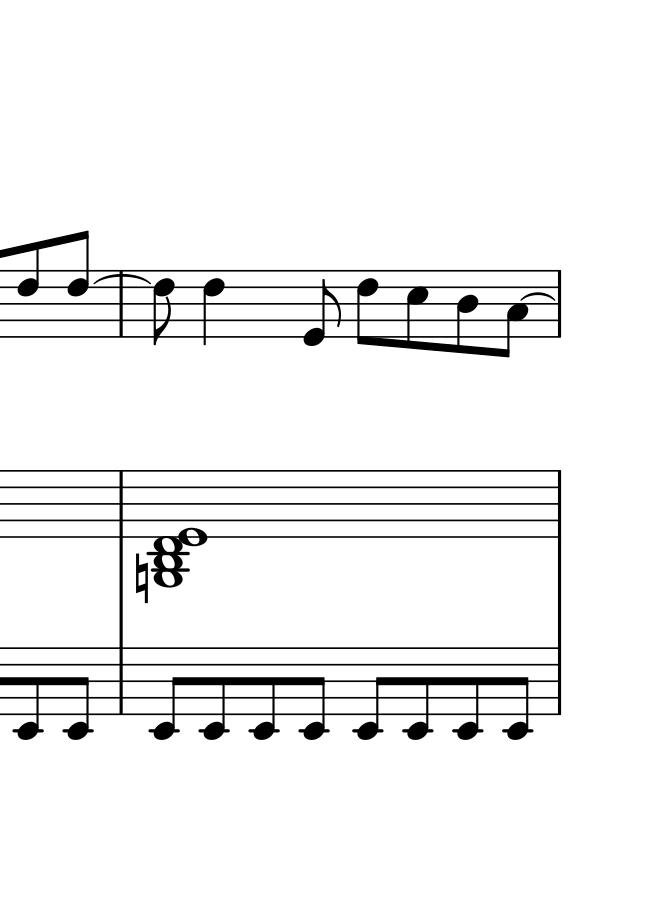1_4th: (150, 469, 208, 589)
4_6: (201, 269, 225, 346)
8_-2: (148, 646, 185, 742), (352, 645, 388, 741), (249, 645, 279, 741), (300, 646, 330, 742), (12, 646, 42, 741), (63, 646, 93, 741), (453, 645, 482, 742), (199, 646, 228, 742), (503, 645, 532, 741), (403, 646, 432, 741)
8_0: (302, 269, 340, 348)
8_3: (497, 268, 530, 360)
8_4: (454, 268, 479, 356)
8_5: (405, 269, 430, 352)
8_6: (15, 239, 43, 340), (66, 228, 90, 341), (150, 268, 175, 347), (355, 268, 379, 348)
Natural: (134, 550, 150, 605)
Single_barline: (112, 648, 129, 714), (112, 472, 129, 537), (551, 471, 567, 537), (551, 649, 567, 714), (113, 269, 128, 337), (552, 271, 566, 337)
Slur: (97, 274, 150, 286), (520, 289, 557, 303)
